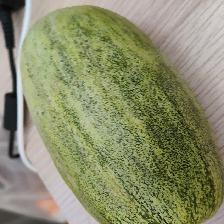gua: (38, 35, 181, 210)
